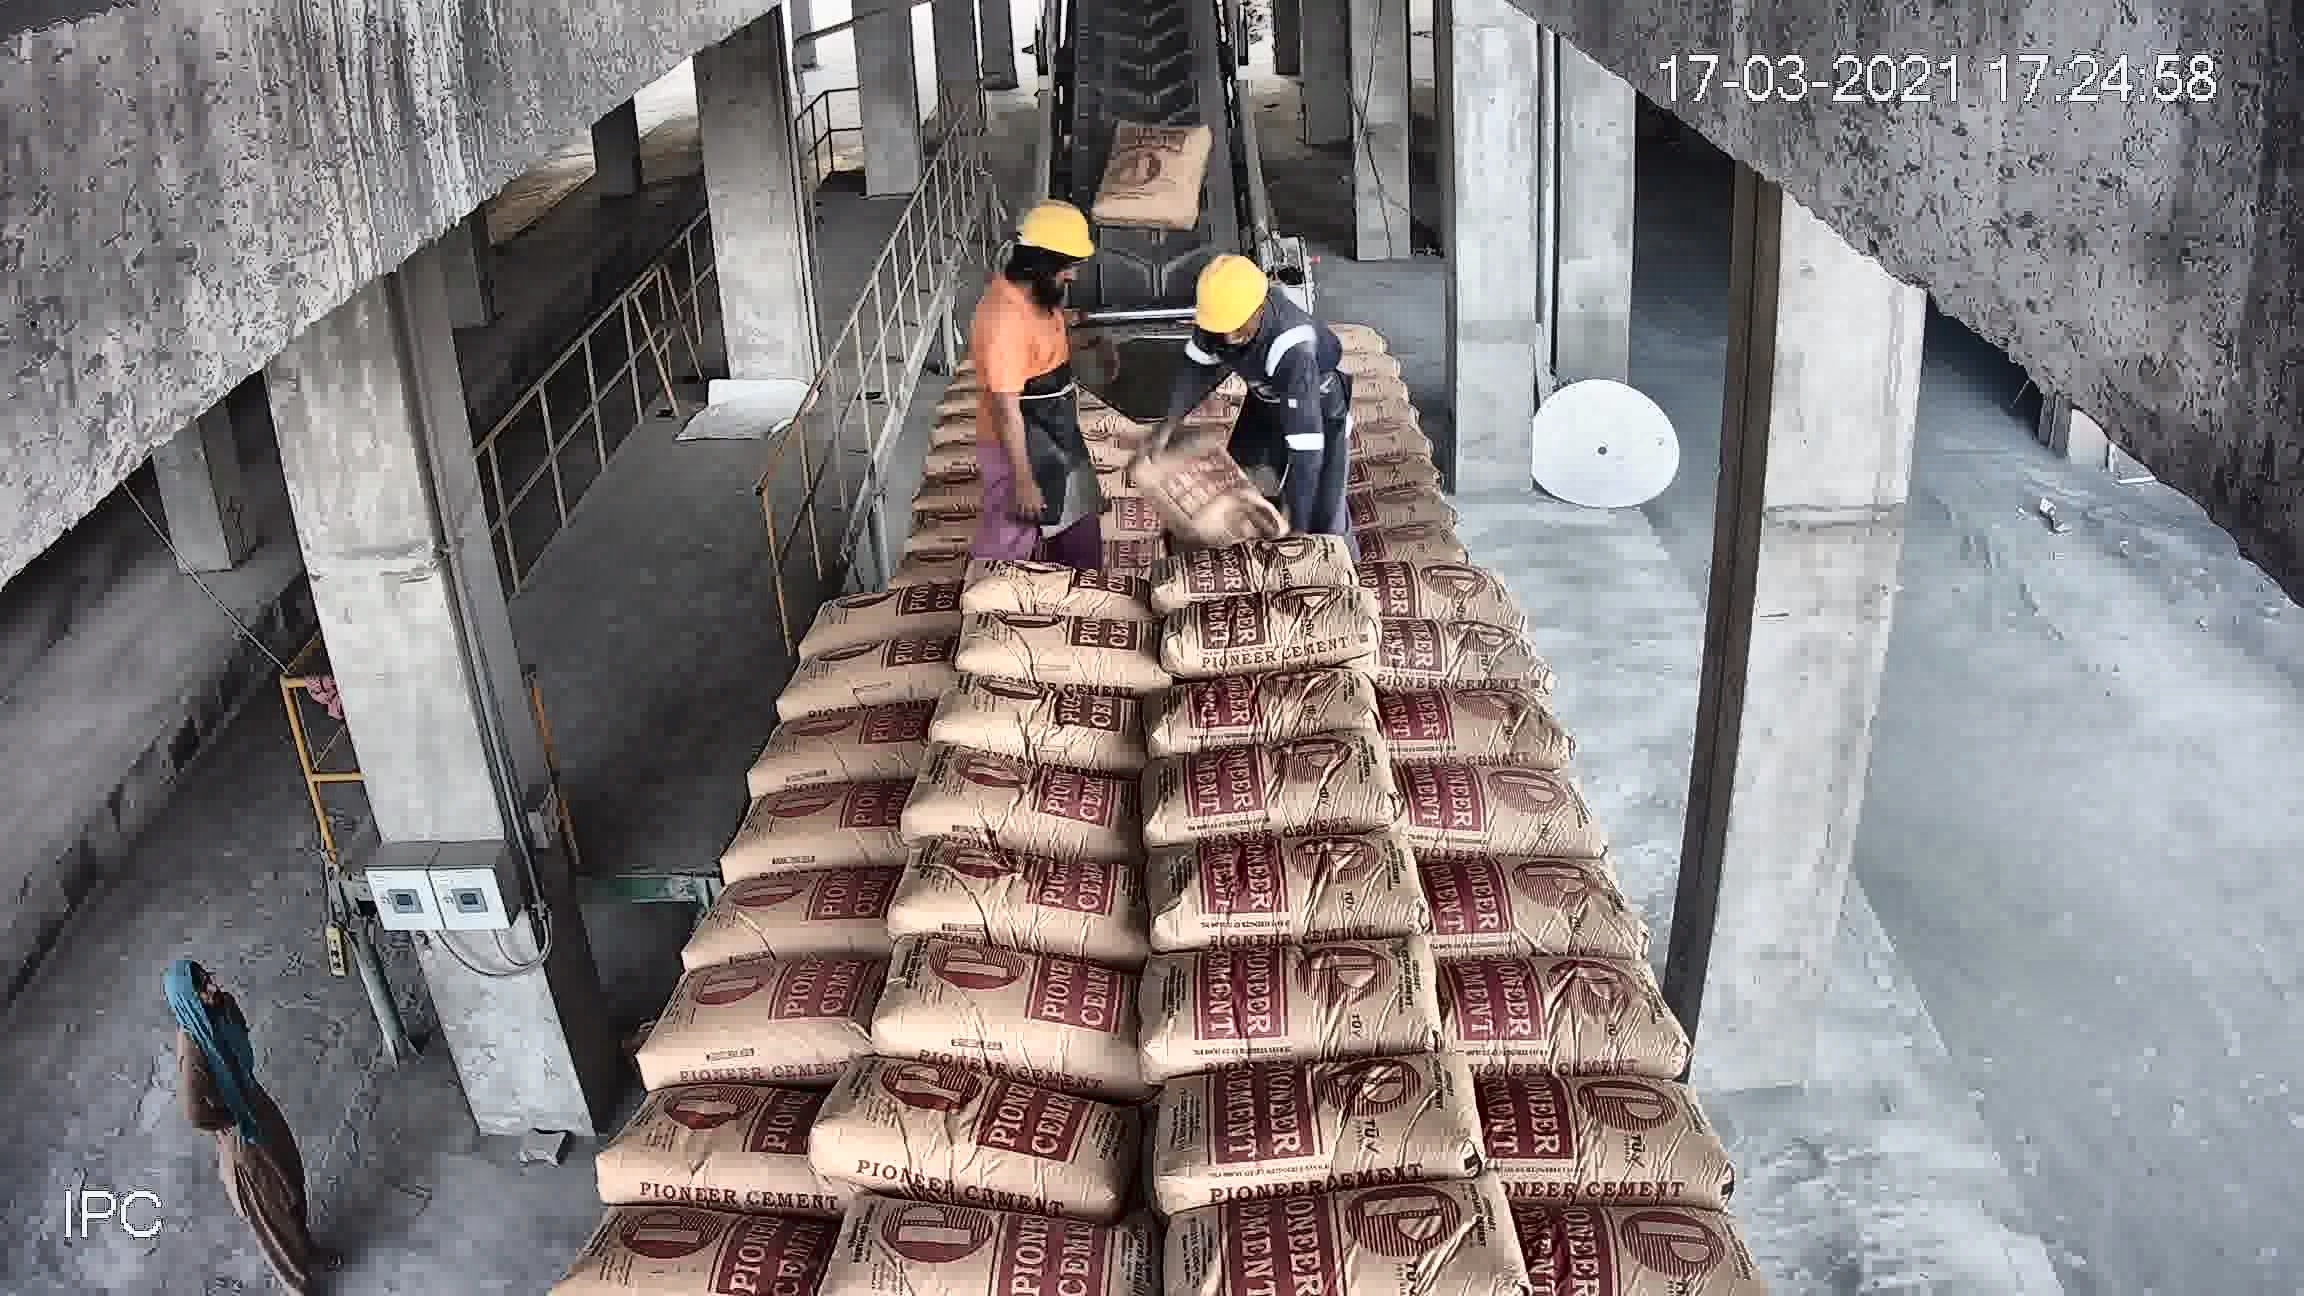bag: (1143, 158, 1211, 252)
bag_h: (1169, 1165, 1514, 1296), (1154, 1051, 1473, 1188), (1408, 1071, 1730, 1207), (815, 1054, 1139, 1180), (1124, 821, 1412, 953), (1135, 923, 1434, 1048), (1494, 1173, 1764, 1296), (1412, 951, 1684, 1073), (793, 1204, 1135, 1296), (633, 957, 877, 1082), (886, 938, 1130, 1062), (571, 1100, 817, 1222), (1127, 720, 1393, 831), (881, 829, 1128, 945), (1393, 843, 1635, 959), (1383, 756, 1617, 867), (886, 755, 1146, 851), (673, 869, 907, 970), (555, 1199, 801, 1296), (1124, 665, 1372, 755), (1180, 585, 1407, 677), (961, 601, 1157, 690), (1397, 677, 1586, 767), (957, 543, 1139, 635), (764, 636, 956, 723), (953, 684, 1152, 764), (1339, 612, 1541, 688), (1275, 508, 1506, 574), (1152, 481, 1350, 559), (734, 790, 897, 881), (755, 715, 929, 791), (1169, 536, 1358, 601), (1312, 426, 1480, 498), (1106, 449, 1313, 506), (1369, 548, 1518, 625), (801, 578, 965, 646), (824, 486, 992, 551), (976, 503, 1131, 570), (986, 459, 1152, 521), (840, 441, 987, 511), (839, 416, 1010, 475), (1157, 411, 1336, 467), (1343, 459, 1497, 521), (989, 423, 1165, 475), (832, 527, 976, 590), (1331, 381, 1449, 441), (1157, 339, 1253, 396), (923, 342, 1036, 389), (945, 377, 1048, 421)
belt: (1044, 14, 1263, 255)
